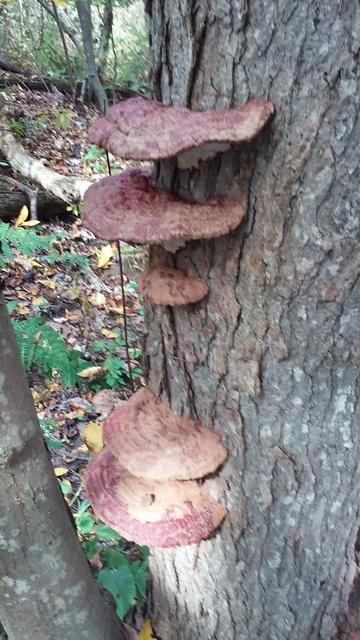poisonous_mushroom: (79, 94, 275, 307), (87, 374, 229, 575)
